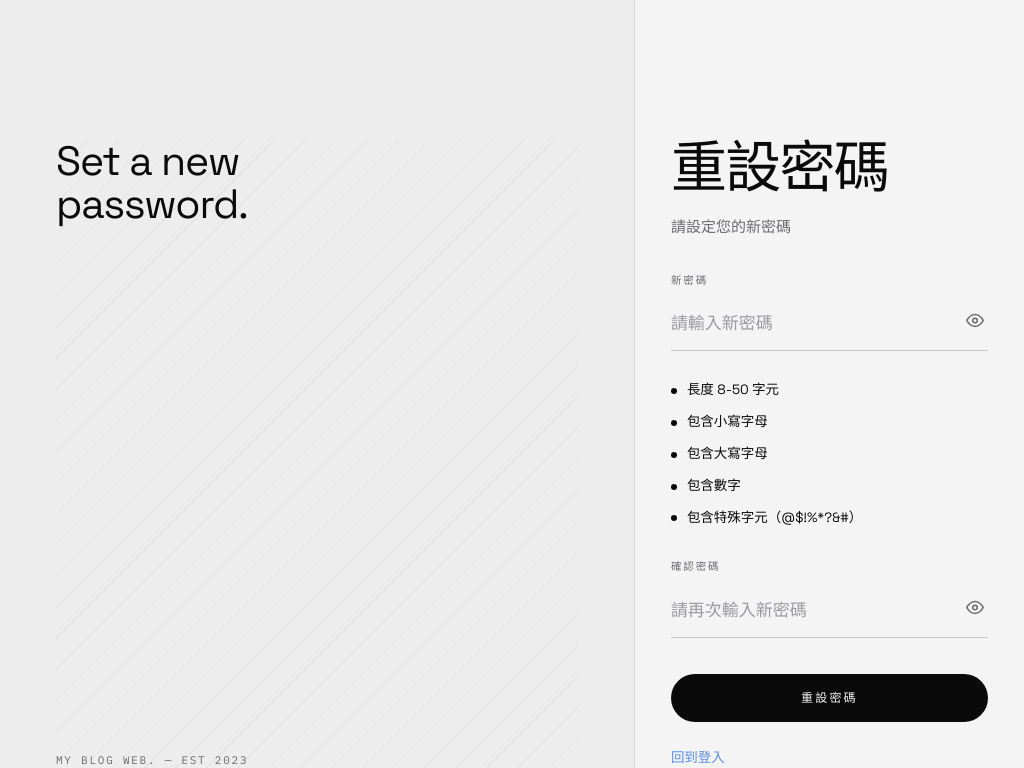
Test: ResetPasswordView › 密碼不一致顯示錯誤
Type "Password123" into the password field labelled "新密碼". click: (829, 324)
box: [671,297,988,351]
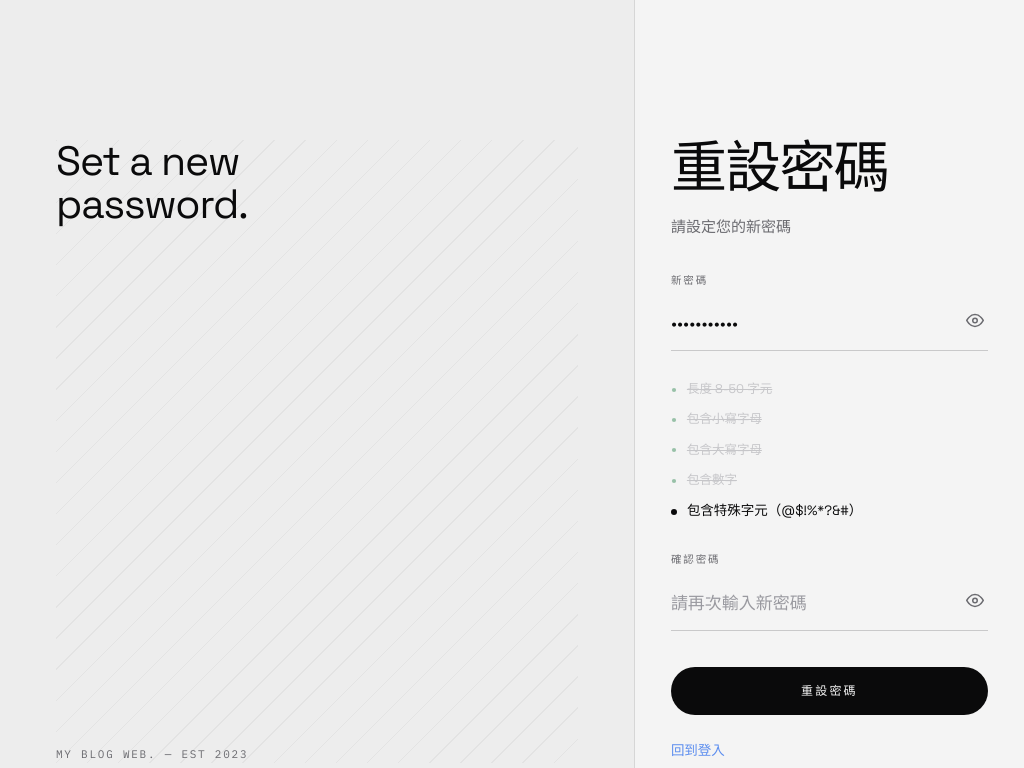
Type "DifferentPass" into the password field labelled "確認密碼". click: (829, 604)
box: [671,577,988,631]
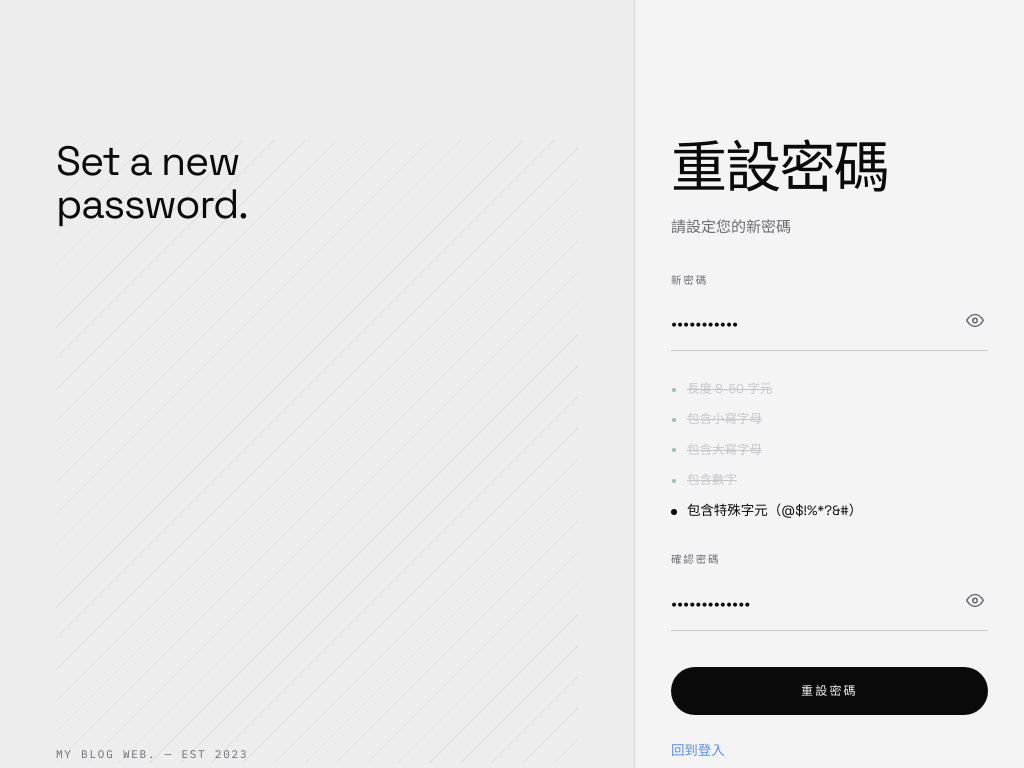
Click the button "重設密碼". click: (829, 691)
box: [671,667,988,715]
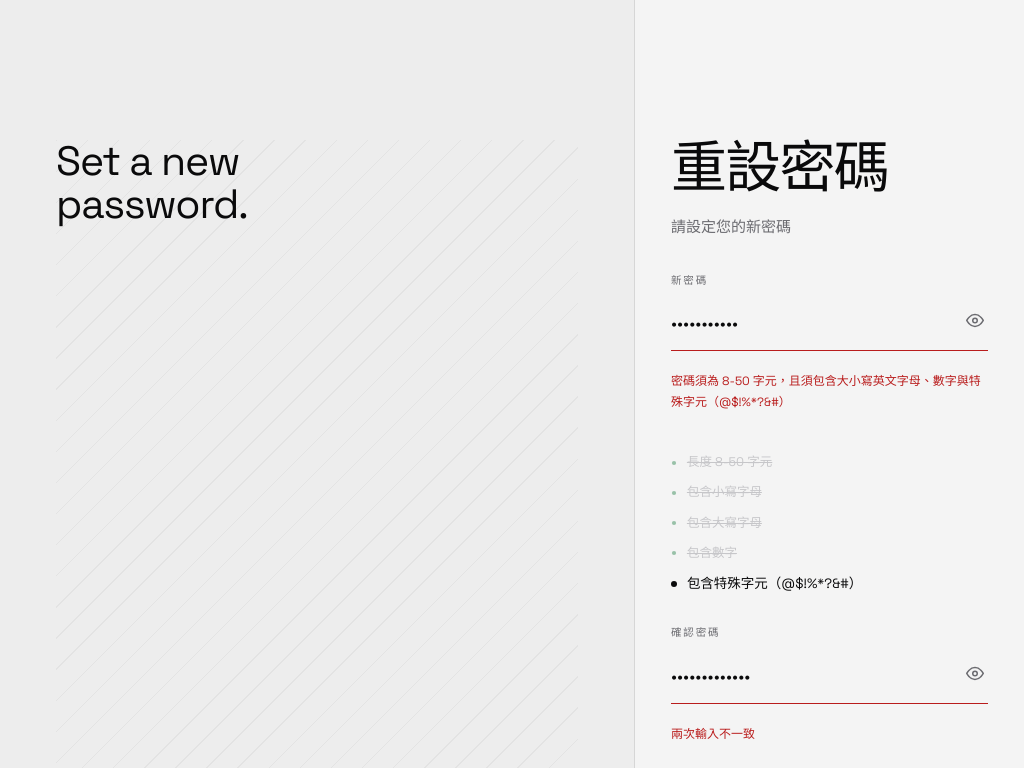
Expected: the text "兩次輸入不一致" is shown, [671,726,755,742]
